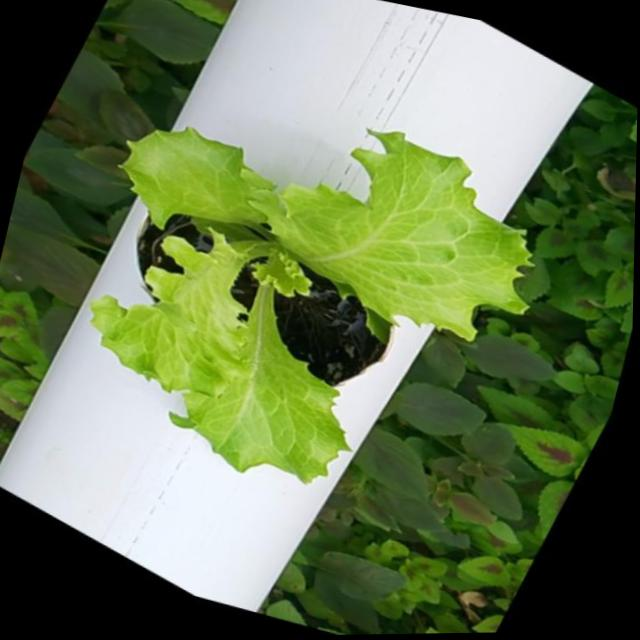Baby: (76, 116, 509, 467)
